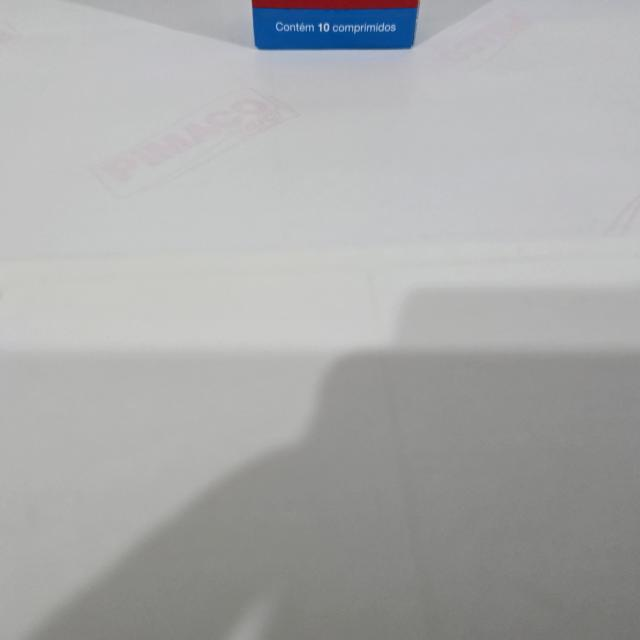prednisona: (249, 0, 427, 56)
